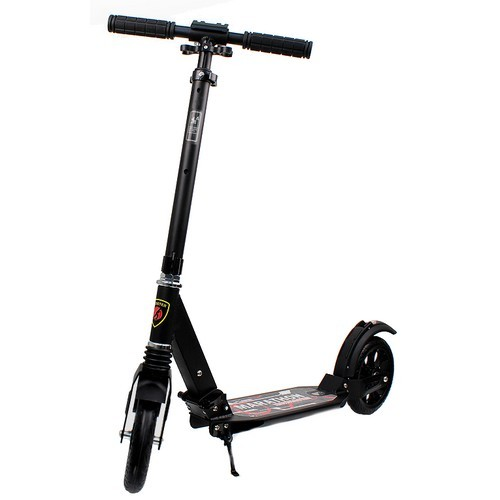scooter: (103, 9, 400, 499)
